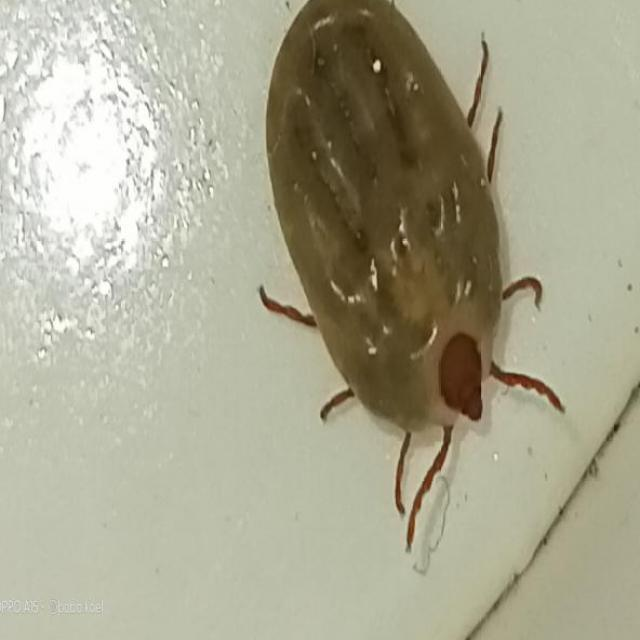Rhipicephalus Sanguineus-F-Fed: (260, 0, 564, 551)
